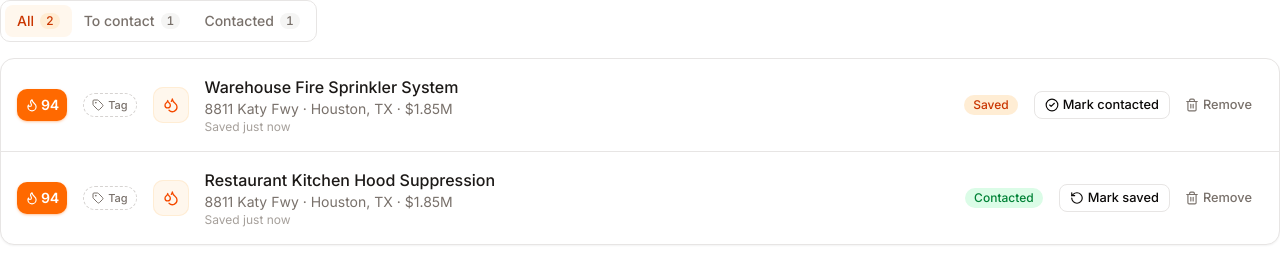
Scenario: SavedList › filters by status with live counts
Click the button "Contacted 1": (252, 21) x1=192 y1=5 x2=312 y2=37
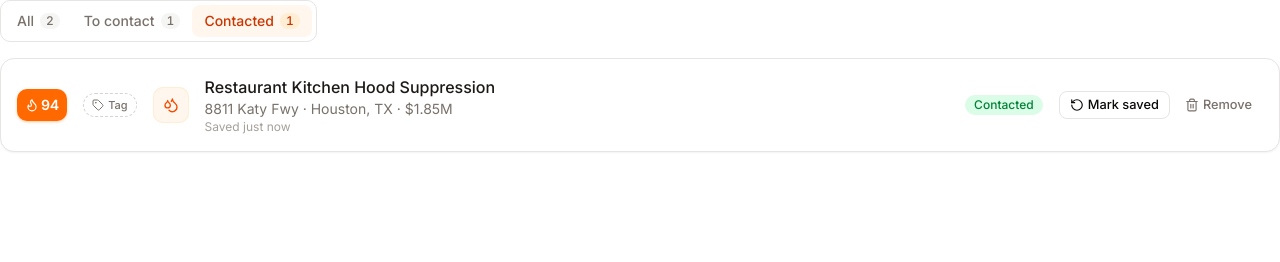
Expected: the link "Restaurant Kitchen Hood Suppression" is shown, x1=205 y1=77 x2=495 y2=97
Result: the link "Warehouse Fire Sprinkler System" is gone
Click the button "To contact 1": (132, 21) x1=72 y1=5 x2=192 y2=37
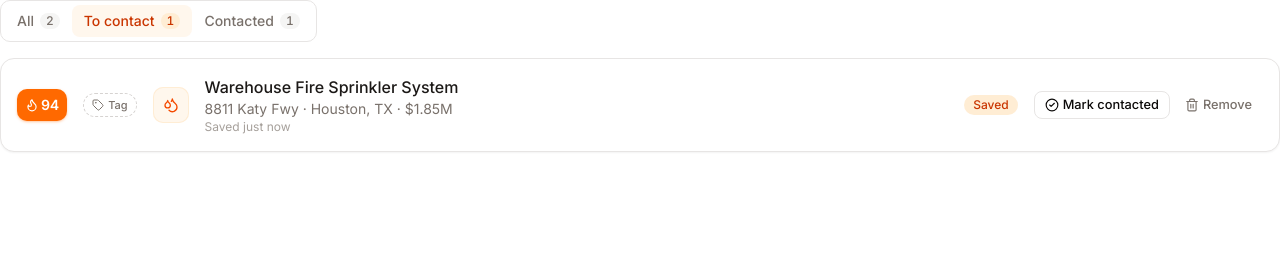
Result: the link "Warehouse Fire Sprinkler System" is shown at x1=205 y1=77 x2=458 y2=97
